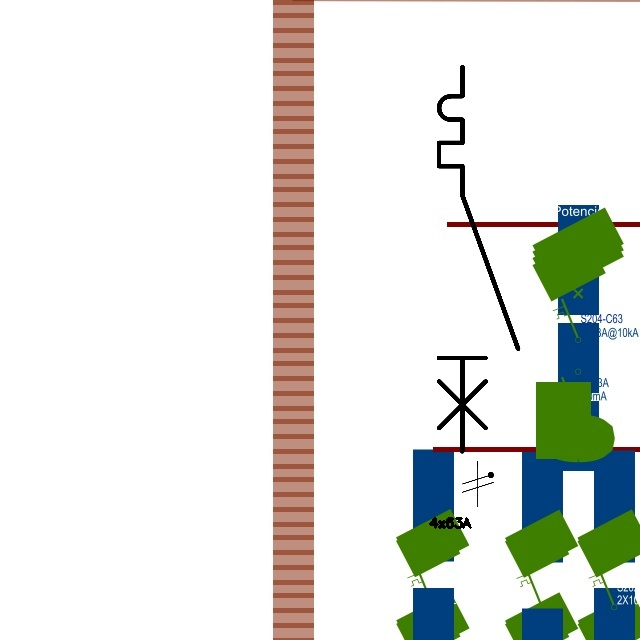interruptor_termomagnetico: (429, 57, 528, 461)
